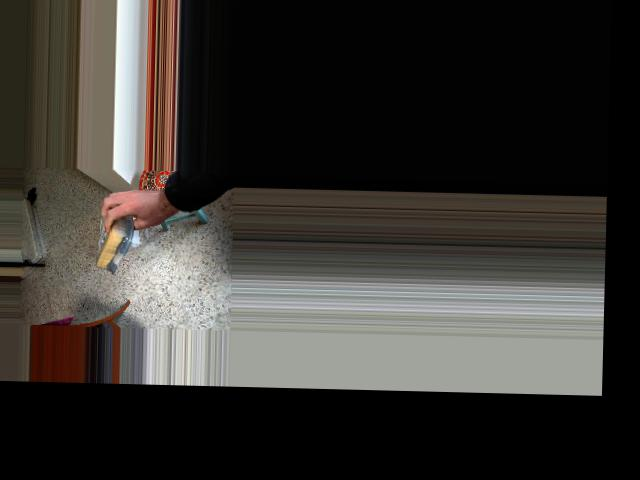cheese: (96, 190, 137, 278)
